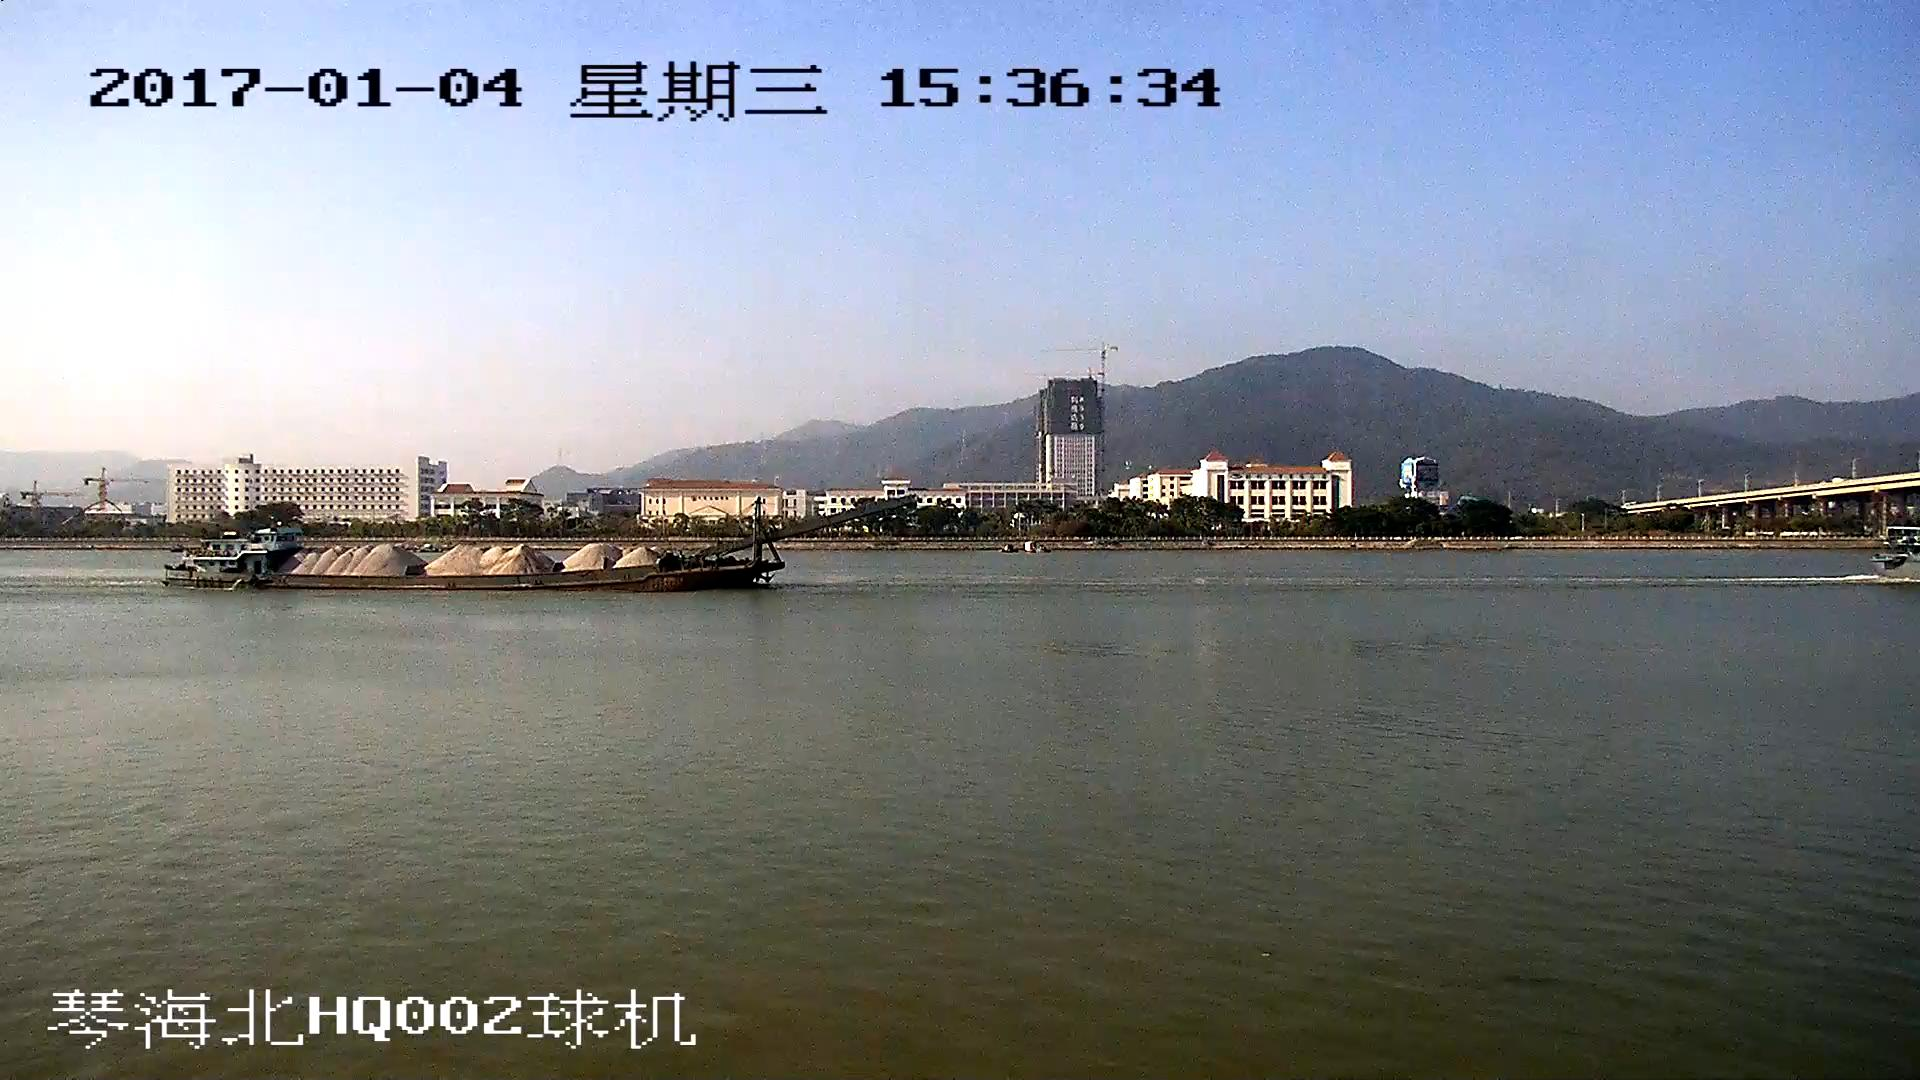ore carrier: (160, 498, 911, 586)
